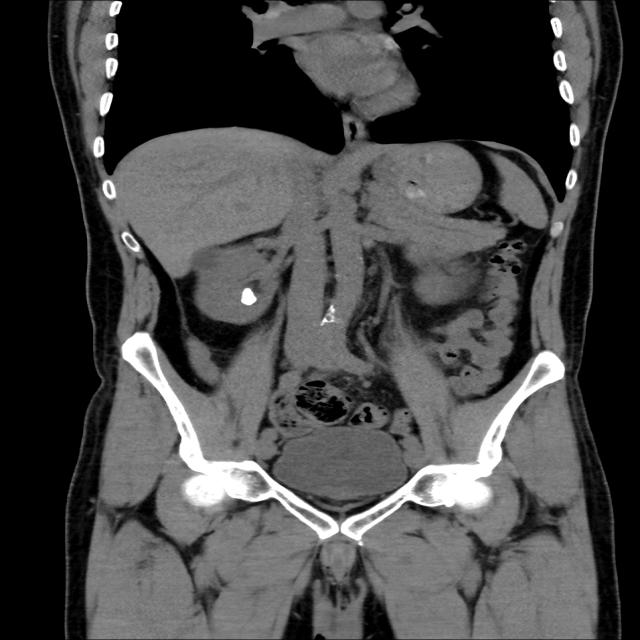kidneystone: (241, 288, 256, 305)
